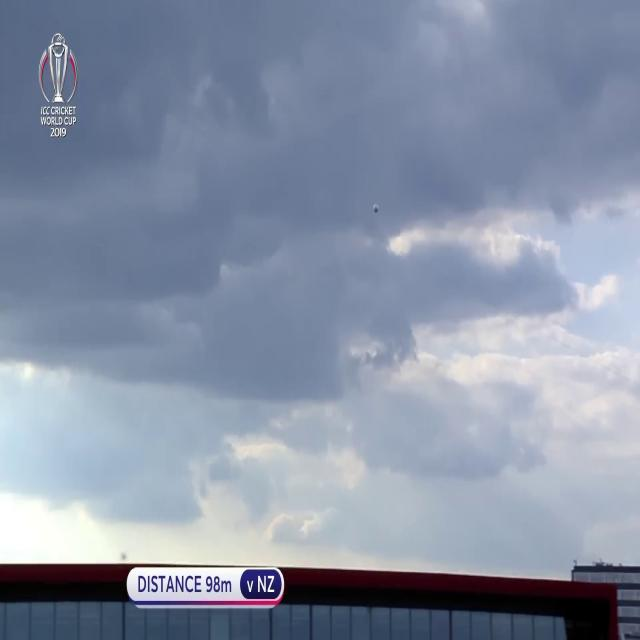ball: (372, 201, 381, 217)
